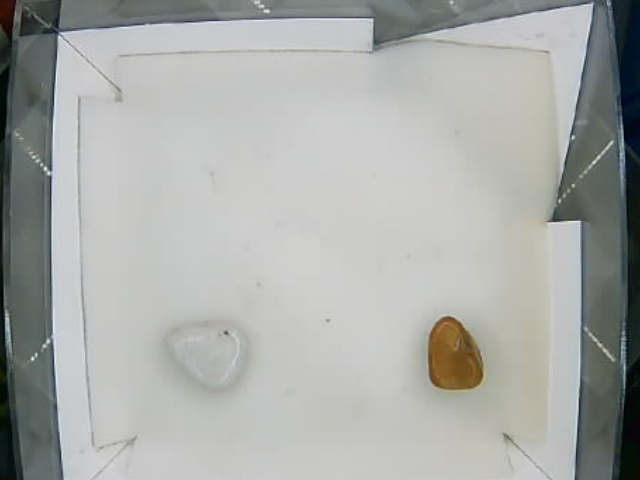Pebble: (168, 322, 249, 393), (427, 314, 485, 390)
